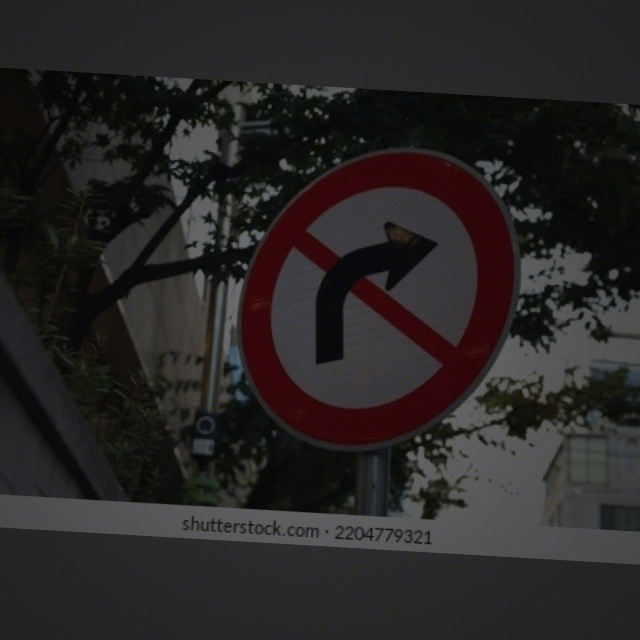Right_Turn_Prohibited: (227, 144, 528, 456)
